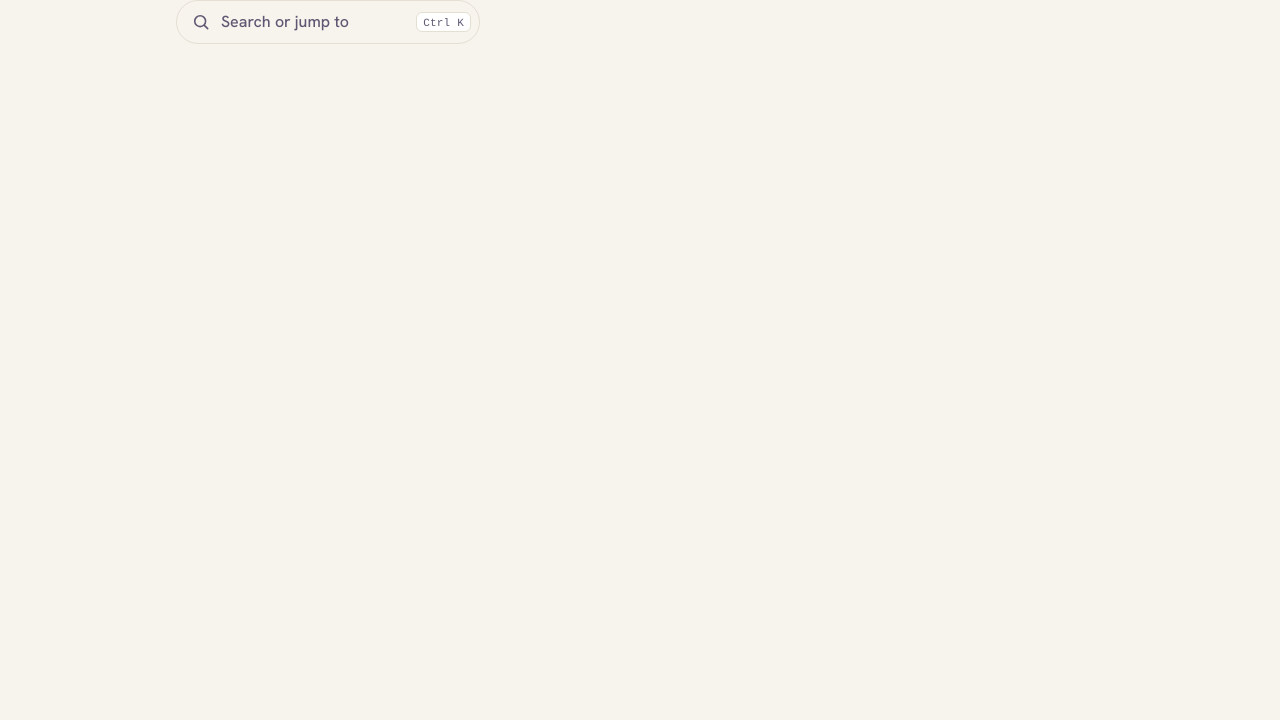
it: CommandPalette › on a server error, says search is unavailable, leaves its groups out and keeps the rest
Press k
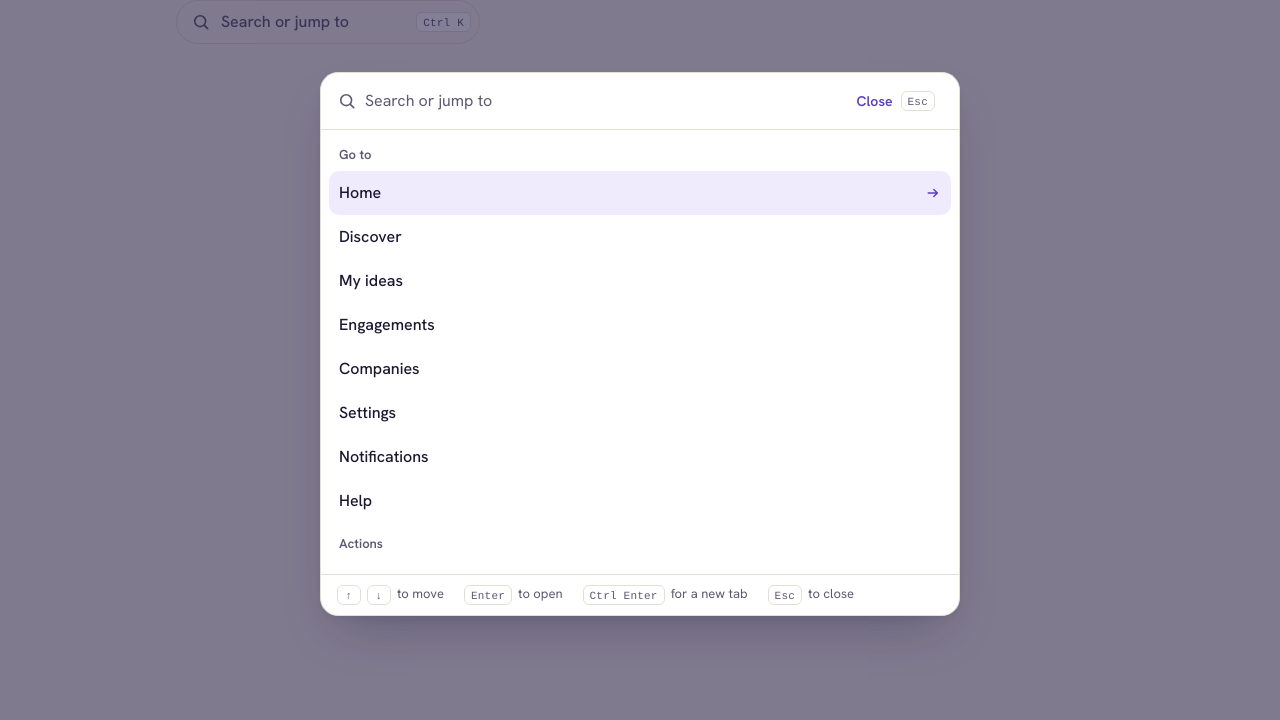
Type "ho" into the dropdown at (603,101), box [365,73,841,129]
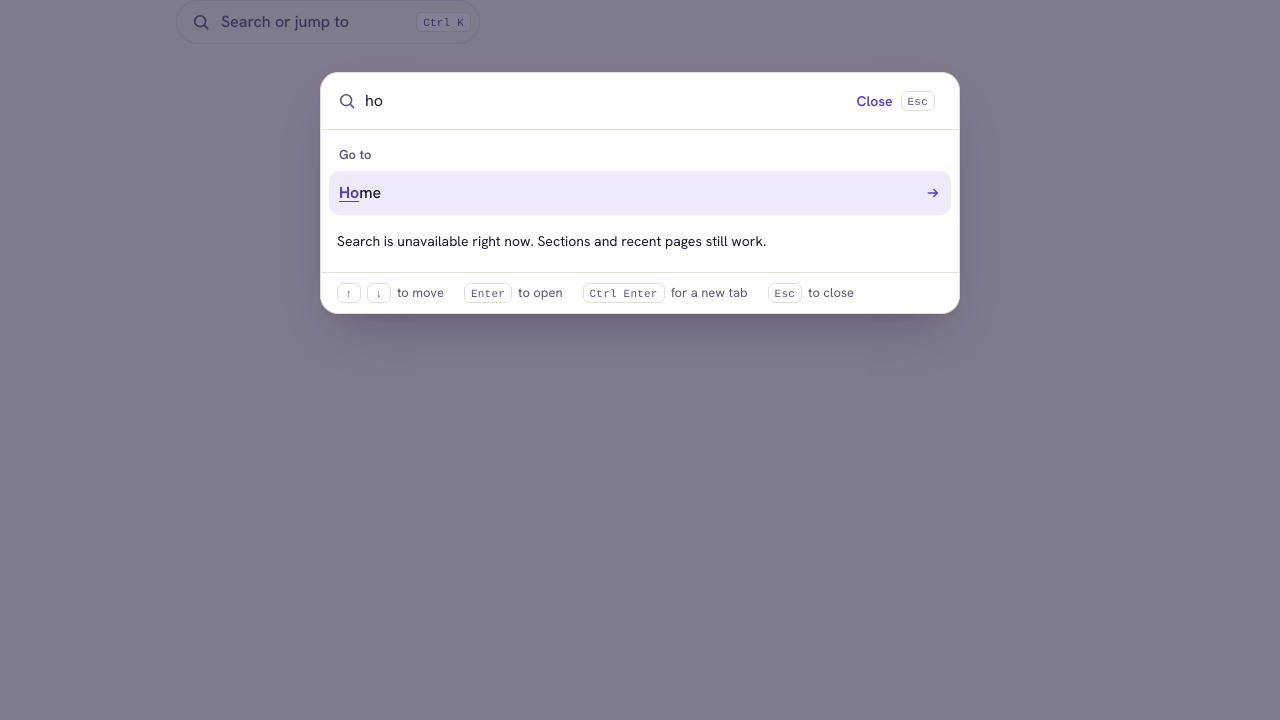
Expected: the option "Home" is shown, [329,171,951,215]
Expected: the text "Search is unavailable right now. Sections and recent pages still work." is shown, [337,232,766,250]
